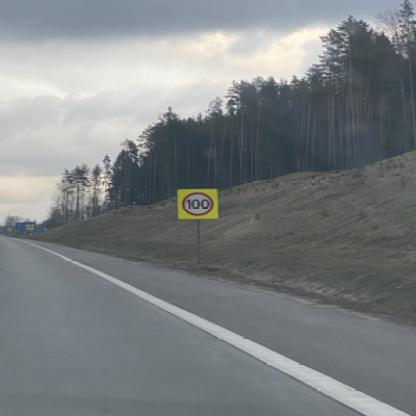speedlimit: (180, 192, 212, 216)
